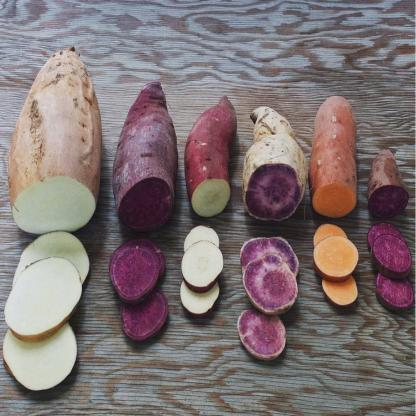---: (9, 37, 106, 231), (8, 254, 90, 343), (185, 84, 235, 224), (311, 86, 364, 214), (178, 236, 226, 291), (311, 230, 362, 280)
